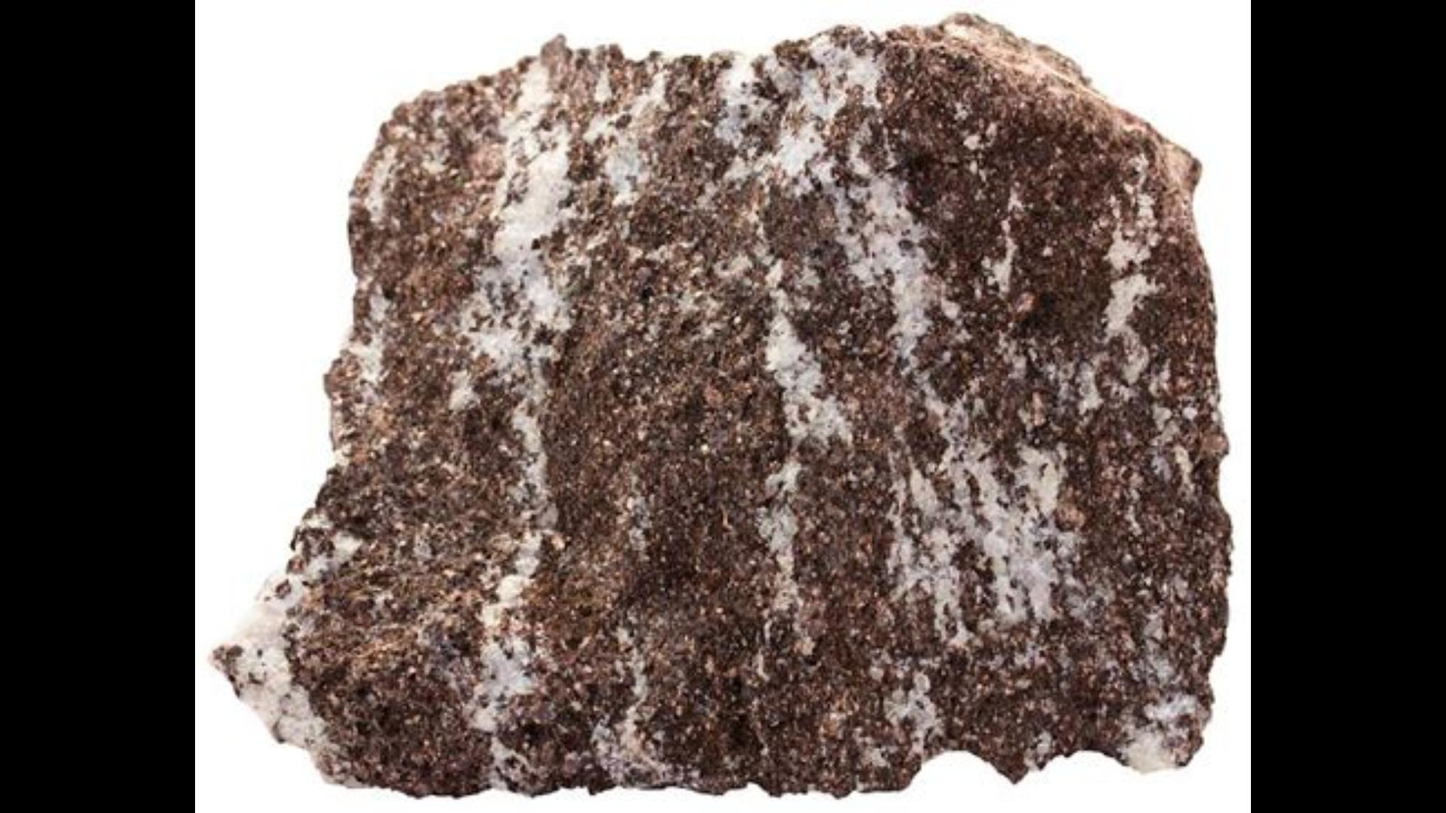rock: (220, 18, 1227, 793)
